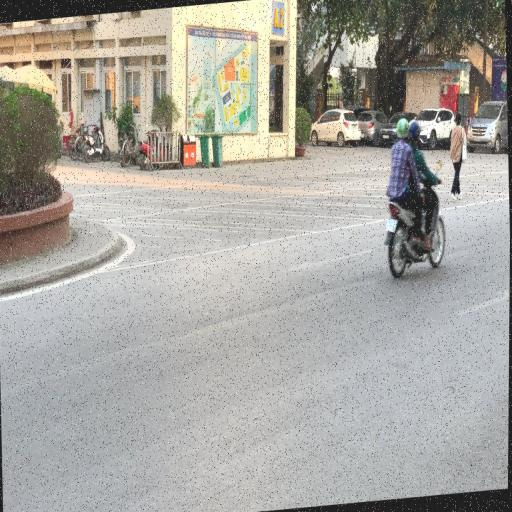bike: (379, 114, 449, 282)
numberplate: (385, 217, 399, 234)
with helmet: (395, 118, 411, 142), (409, 118, 422, 138)
